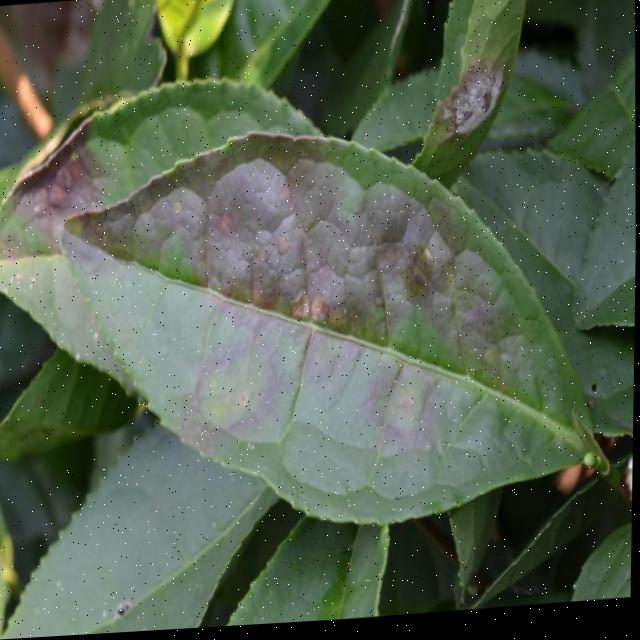Tea exobasidium blight: (102, 142, 494, 468)
